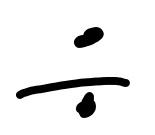div: (16, 27, 130, 118)
